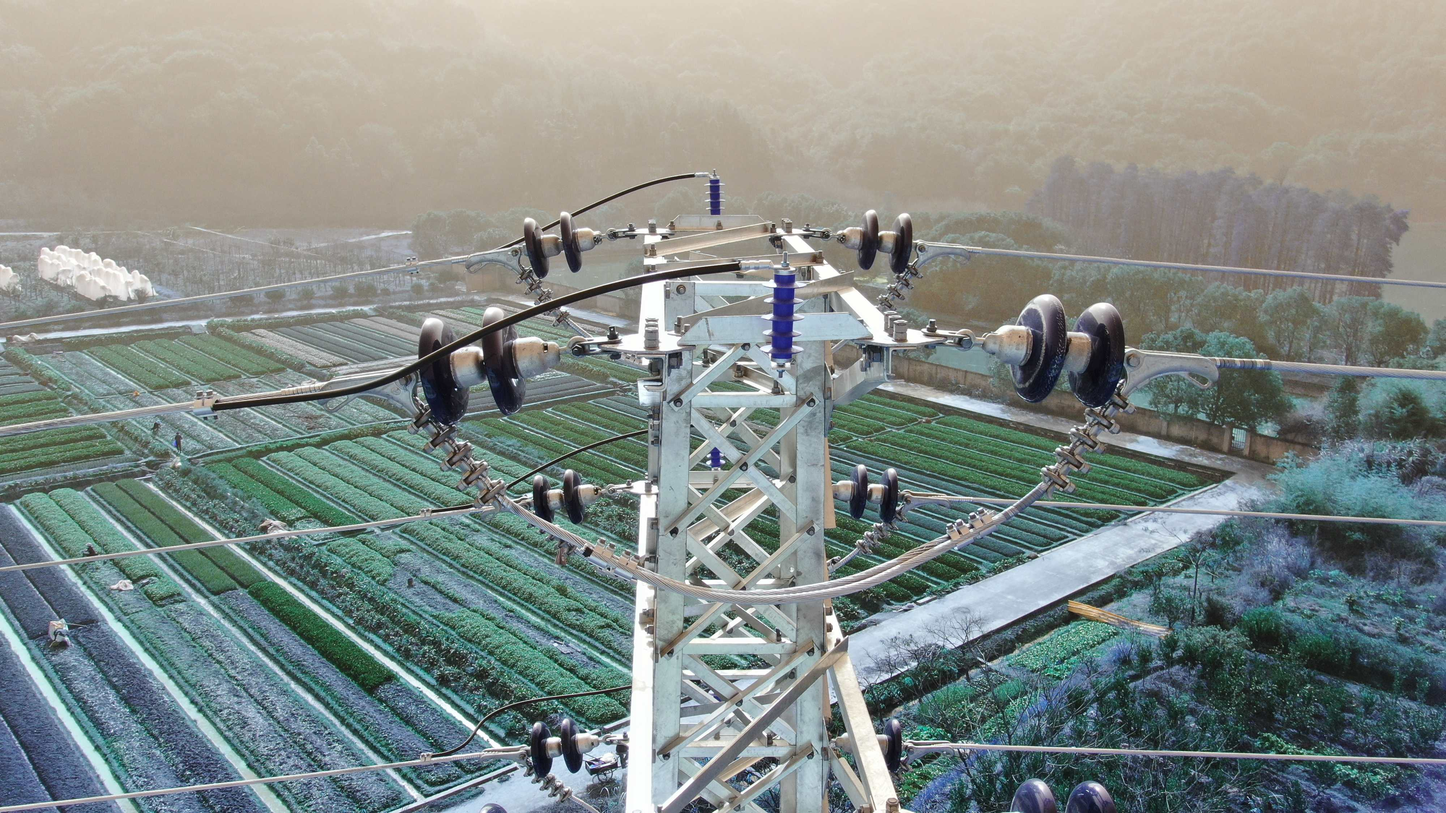severe_soiling_no_discharge_whole: (976, 284, 1128, 410)
